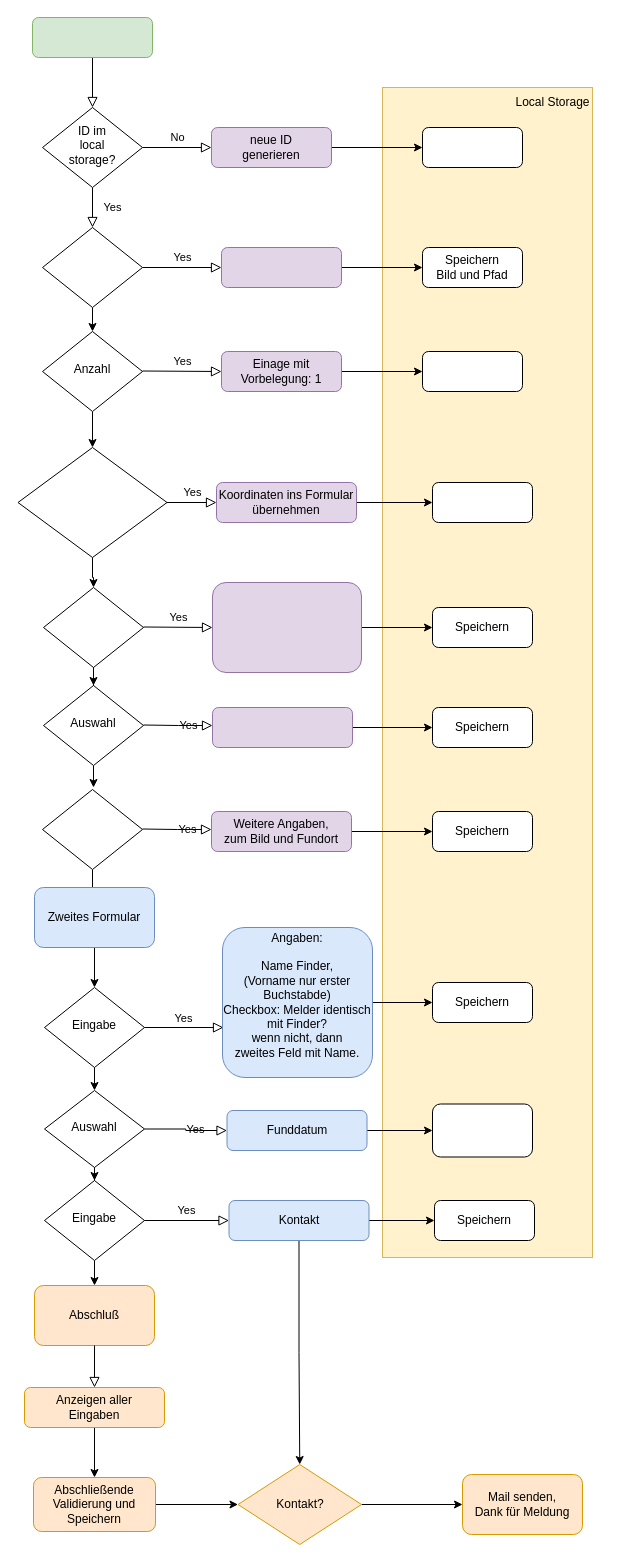
Image size: 619x1562. Some labels were removed from this diagram. Each missing label, with the box of its shape:
Aufforderung Marker in Karte setzen: (17, 446, 167, 558)
ergänzen: (42, 586, 144, 668)
Formular-Workflow: (32, 16, 152, 58)
Freie Eingabe: (42, 788, 142, 870)
Liste mit Vorgaben, Auswahl übernehmen: (212, 706, 352, 748)
PLZ Ort Straße Kreis Bundesland: (212, 582, 362, 672)
Schritt 1: (42, 226, 142, 308)
Speichern Anzahl: (422, 350, 522, 392)
Speichern Koordinaten: (432, 482, 532, 522)
Speichern User-ID: (422, 126, 522, 168)
Speichern- mit Meldedatum (automatisch): (432, 1103, 532, 1157)
Upload Bild: (220, 246, 342, 288)
